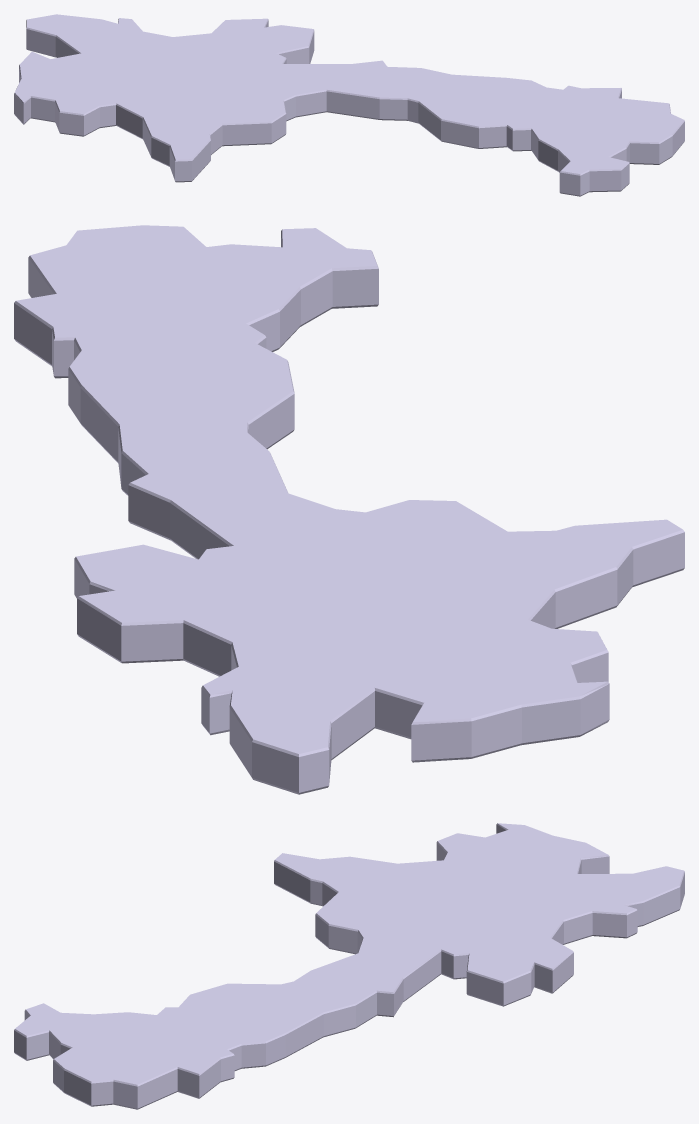
File: LAO.glb
The picture shows the model from 3 angles, top to bottom: view 1: azimuth 30°, elevation 25°; view 2: azimuth 150°, elevation 25°; view 3: azimuth 270°, elevation 25°; orthographic projection. The views are drawn at different scales.
Size of the model in its own units: 1.53 by 0.068 by 1.65.
